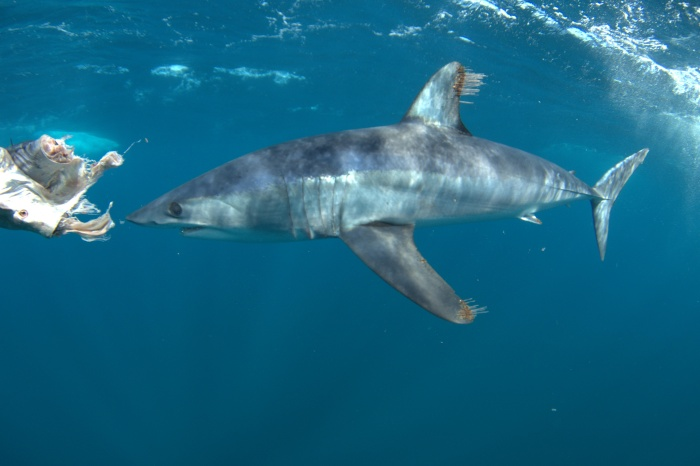Mako: (119, 57, 659, 341)
